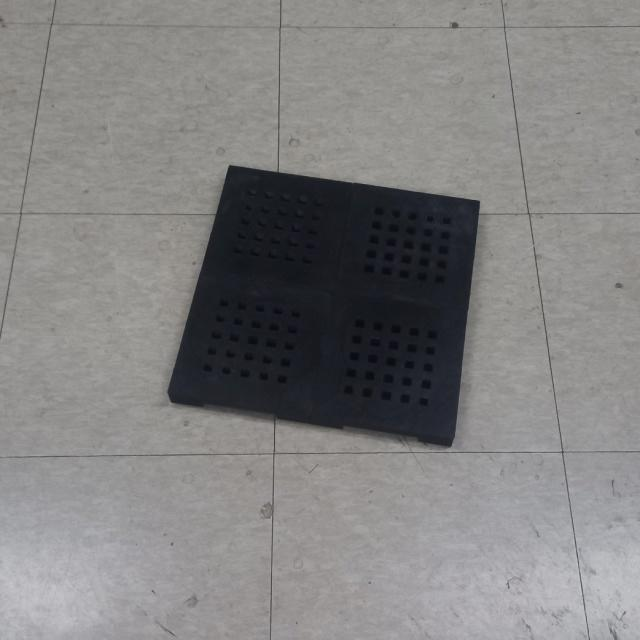pallet: (160, 156, 486, 452)
